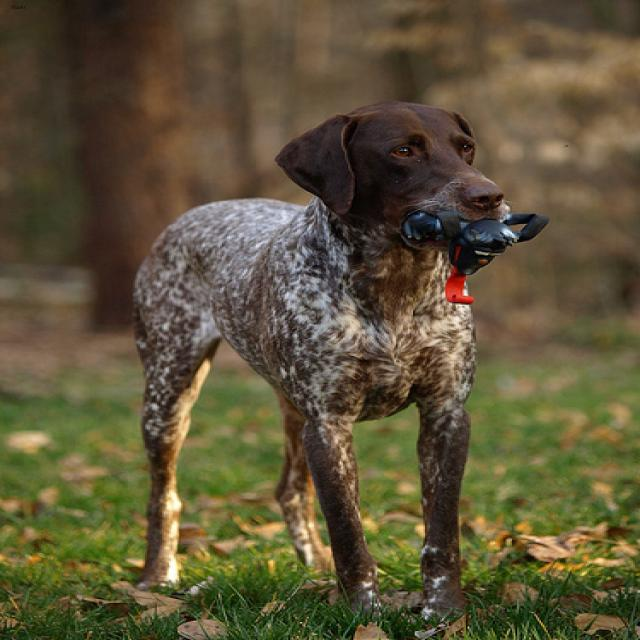dog-german_shorthaired: (119, 91, 514, 622)
